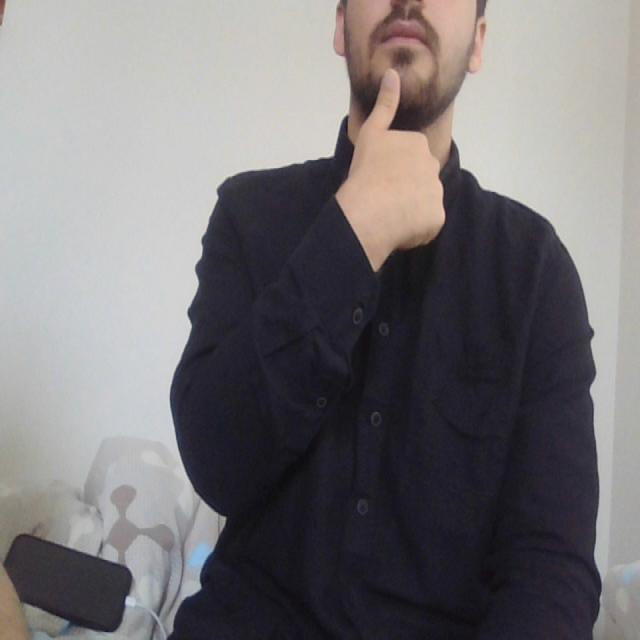Baba: (358, 20, 443, 125)
